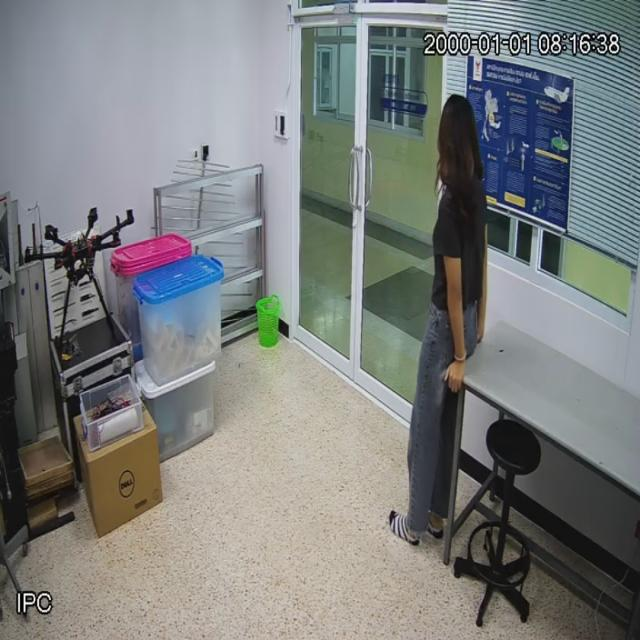normal: (407, 93, 488, 544)
